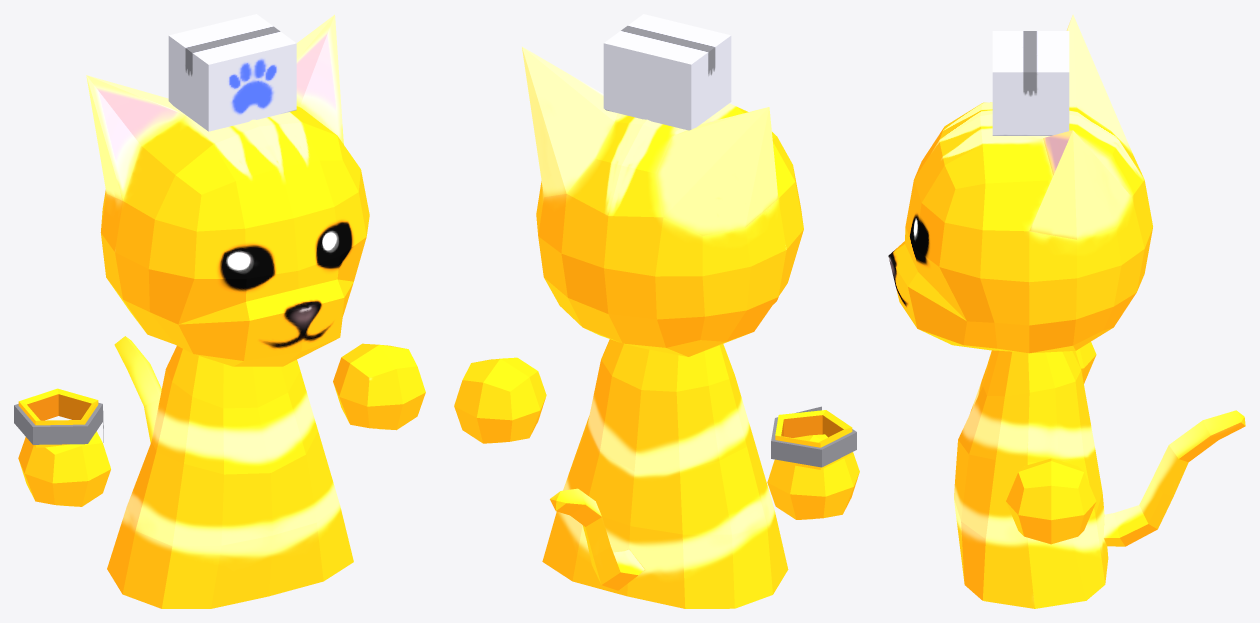
Rendered from Logistica-Cat.glb.
The picture shows the model from 3 angles, left to right: view 1: azimuth 30°, elevation 25°; view 2: azimuth 150°, elevation 25°; view 3: azimuth 270°, elevation 25°; orthographic projection. The views are drawn at different scales.
Visible parts, largest first — view 1: Logistica-Cat, Acc-Caja, Acc-Cinta; view 2: Logistica-Cat, Acc-Caja, Acc-Cinta; view 3: Logistica-Cat, Acc-Caja.
Part boxes in pixels (box(x1,y1,x2,y2)): Logistica-Cat: box(18, 14, 425, 608); Acc-Caja: box(168, 14, 296, 131); Acc-Cinta: box(14, 388, 103, 447); Logistica-Cat: box(454, 46, 859, 608); Acc-Caja: box(603, 14, 731, 130); Acc-Cinta: box(771, 406, 856, 469); Logistica-Cat: box(888, 14, 1245, 608); Acc-Caja: box(992, 31, 1069, 135).
Size of the model in its own units: 0.596 by 0.7718 by 0.488.
Materials: 2 (2 with a texture image).
